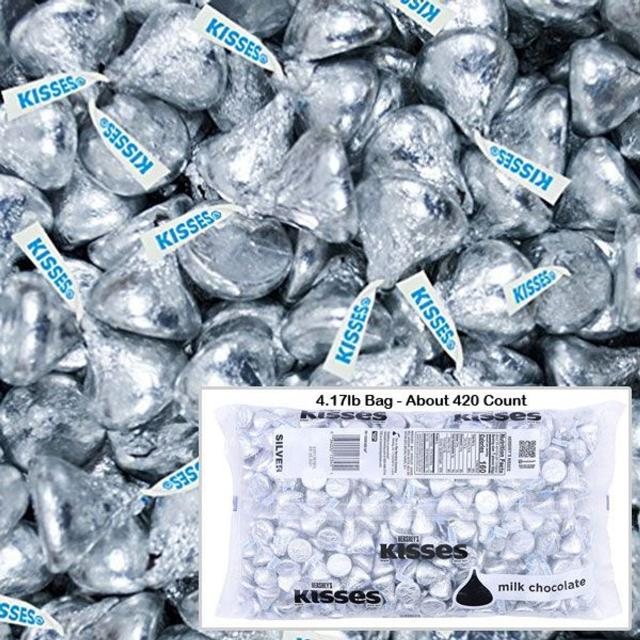kisses: (12, 1, 197, 201), (422, 36, 574, 211), (202, 17, 382, 136), (14, 444, 167, 580), (66, 0, 238, 110), (76, 210, 208, 344), (201, 139, 360, 238), (266, 245, 398, 364), (395, 241, 537, 350), (53, 304, 178, 426), (338, 179, 462, 288), (508, 254, 614, 332)
